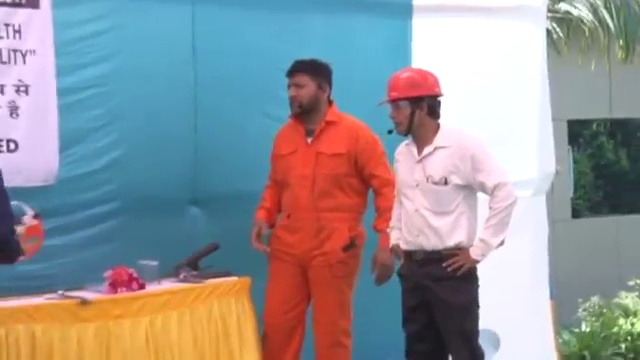helmet: (378, 67, 444, 108)
helmet_off: (284, 60, 332, 120)
helmet_on: (380, 67, 446, 141)
person: (246, 60, 397, 360), (377, 65, 517, 360)
